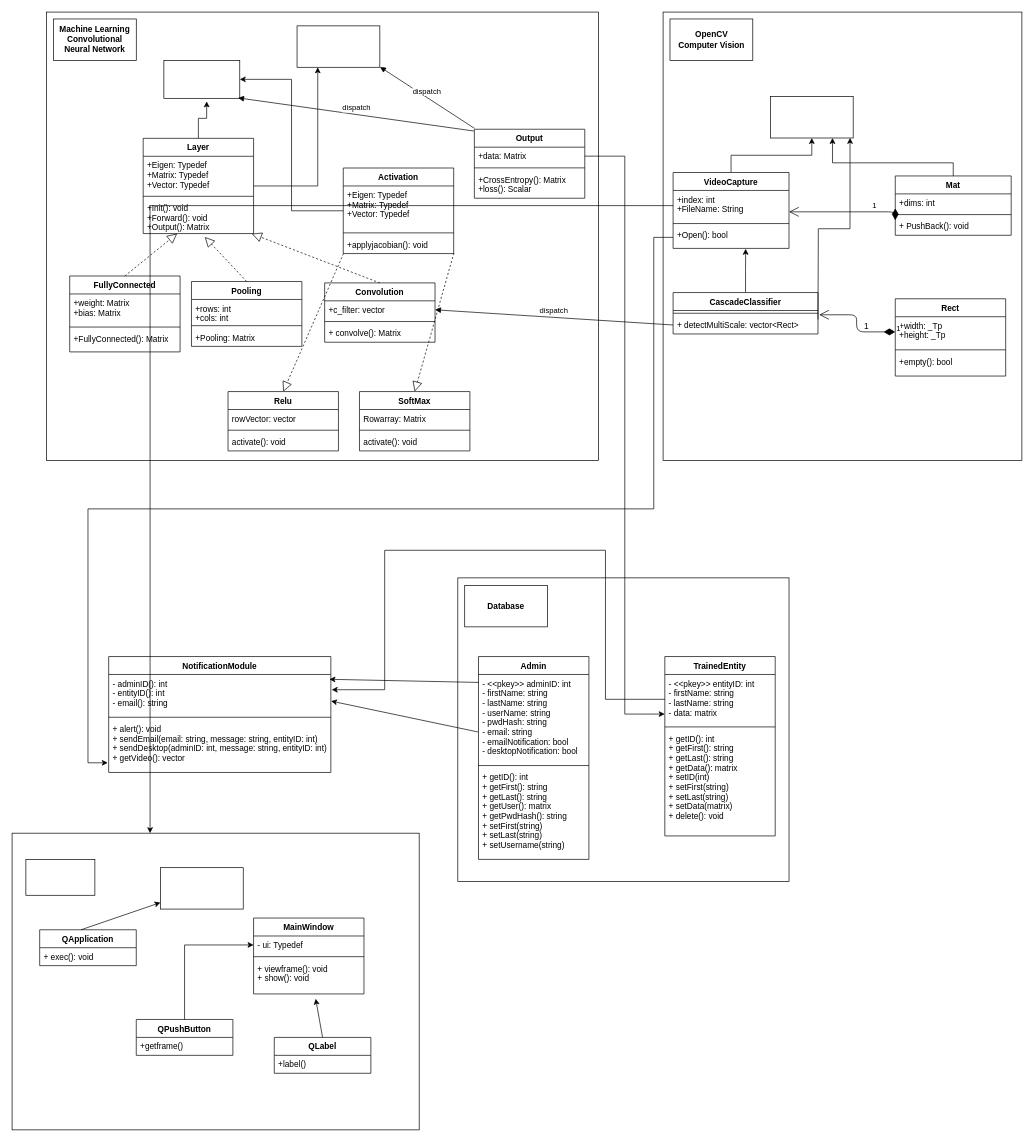
Some shapes in this 1034 by 1142 pixel diagram are drawn without their labels. Each missing label, with the centre of its shape:
"<<Component>> <<Library>> CNN" belongs at (x=338, y=46).
"<<Component>> <<Library>> Eigen" belongs at (x=201, y=79).
"<<Component>> <<Library>> OpenCV" belongs at (x=811, y=117).
"<<Component>> <<Library>> Qt" belongs at (x=201, y=888).
"User Interface" belongs at (x=60, y=877).
